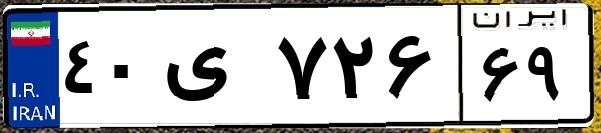0: (110, 28, 158, 98)
2: (330, 28, 385, 110)
4: (57, 26, 110, 100)
6: (385, 28, 445, 110), (475, 38, 525, 113)
7: (270, 28, 330, 110)
9: (525, 38, 570, 115)
ی: (158, 20, 270, 120)
